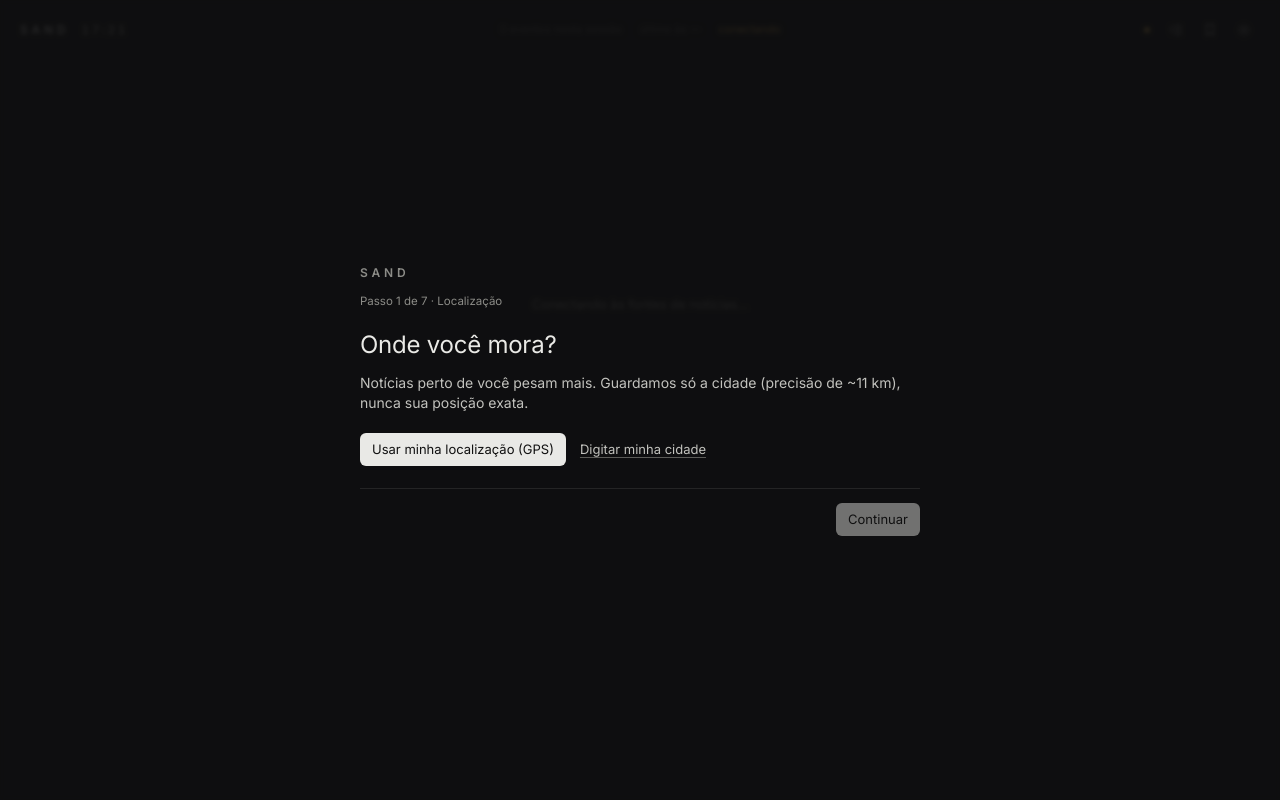
Test case: login and first-login questionnaire › GPS: the position is rounded (~11 km) before it leaves the browser
Click the button "Usar minha localização (GPS)" at {"x": 463, "y": 450}, box [360,433,566,466]
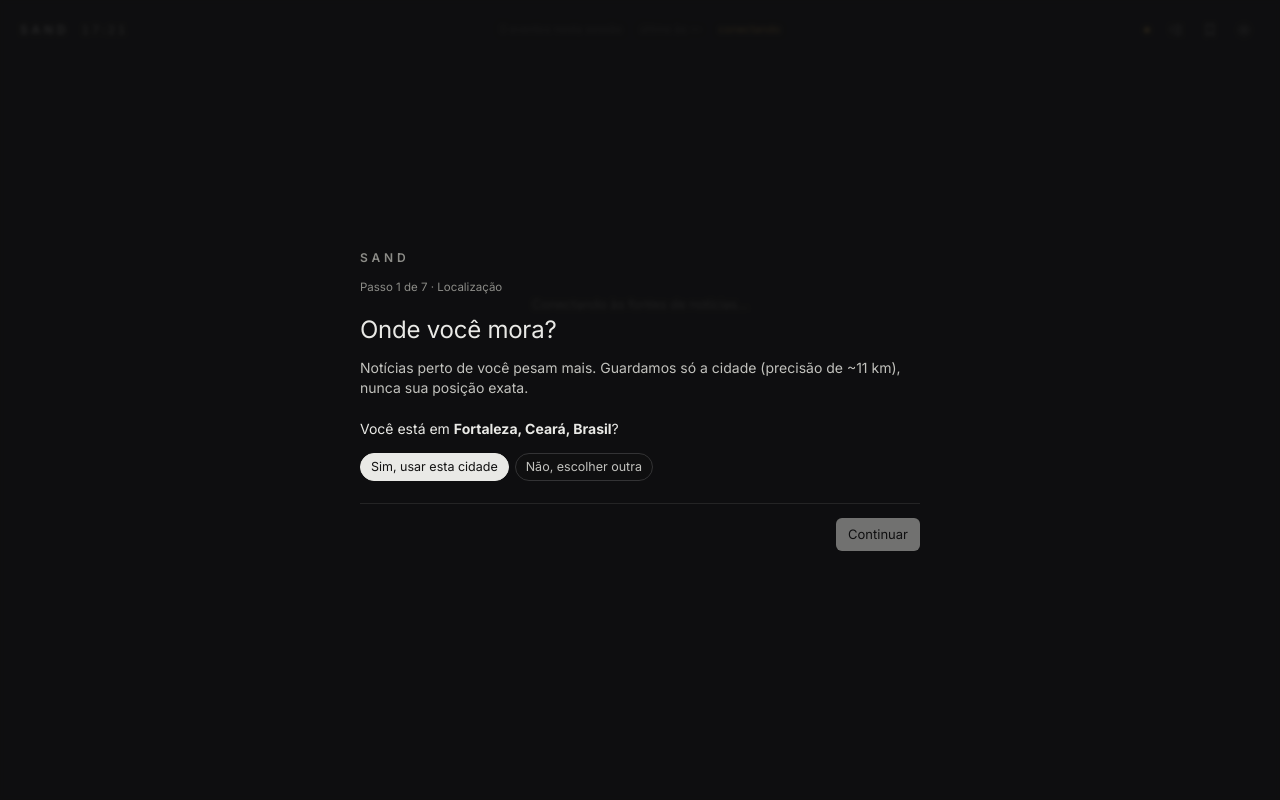
Result: the text "Você está em Fortaleza, Ceará, Brasil?" is shown at [360,420,619,437]
Click the button "Sim, usar esta cidade" at {"x": 434, "y": 467}, box [360,453,509,481]
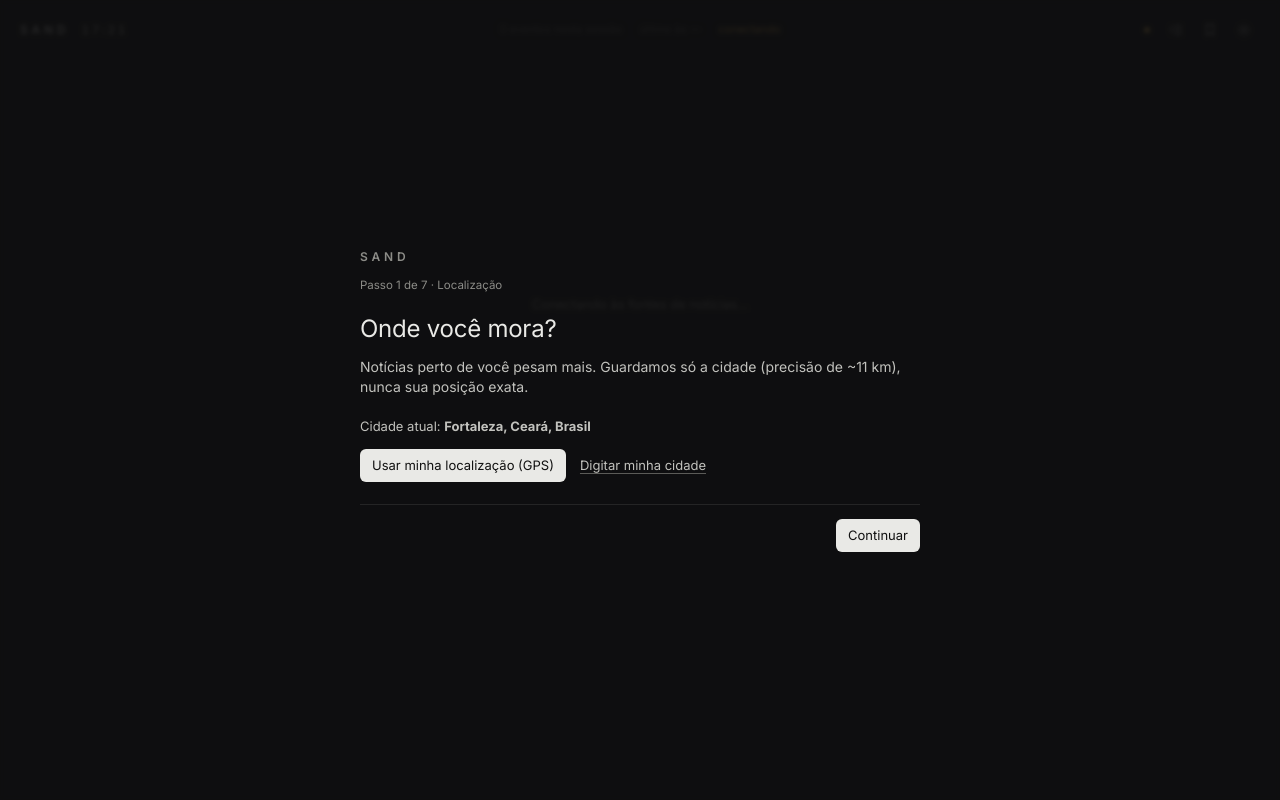
Result: the button "Continuar" is enabled at [836,519,920,552]
